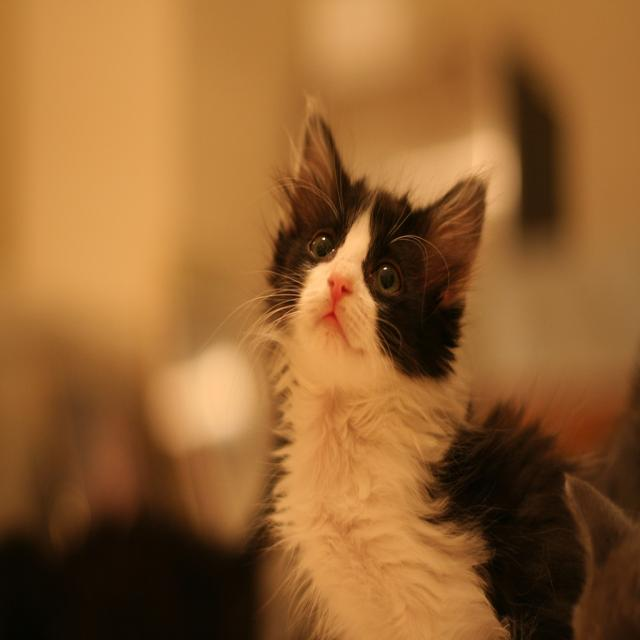cat: (229, 95, 640, 639)
